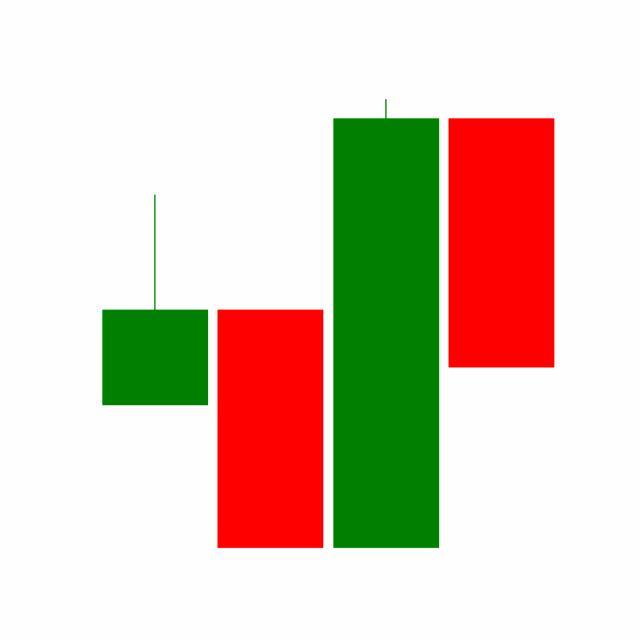Marubozu: (444, 116, 560, 371)
